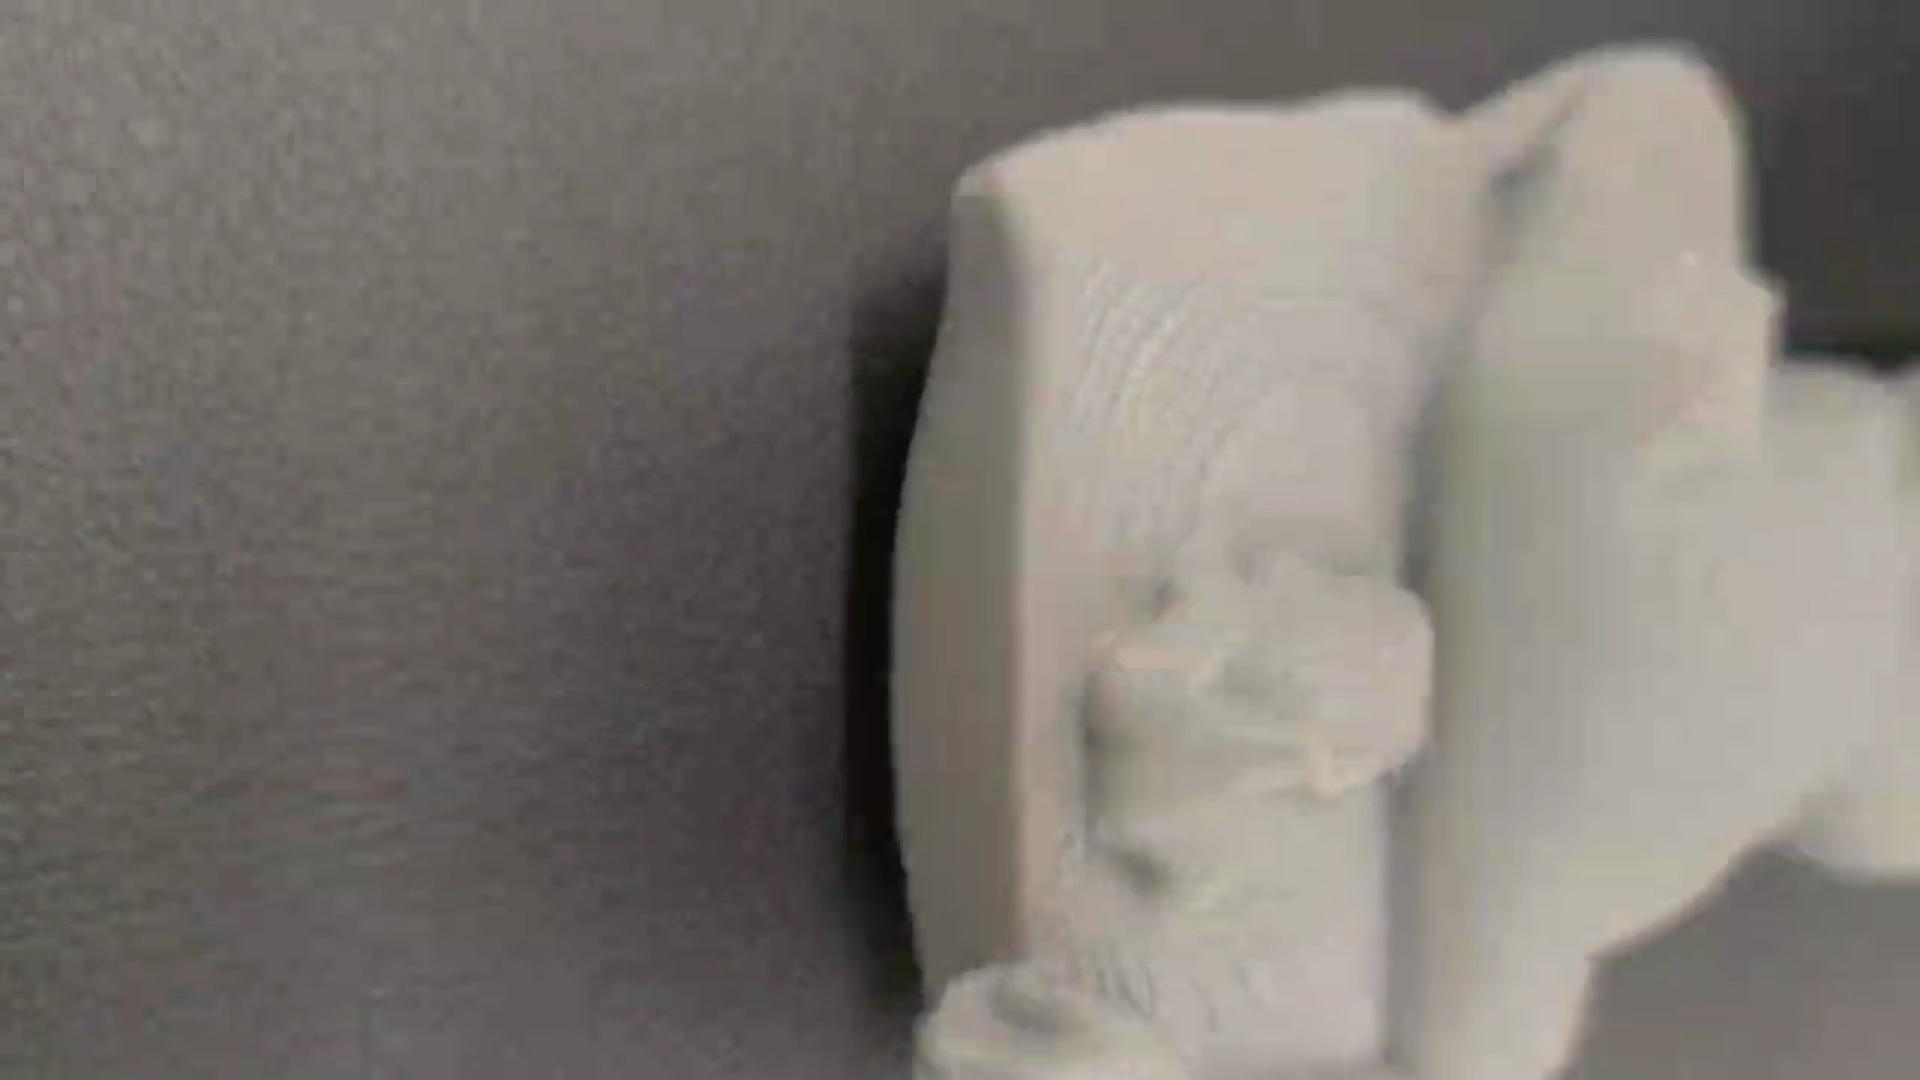Bad-style: (862, 41, 1920, 1079)
